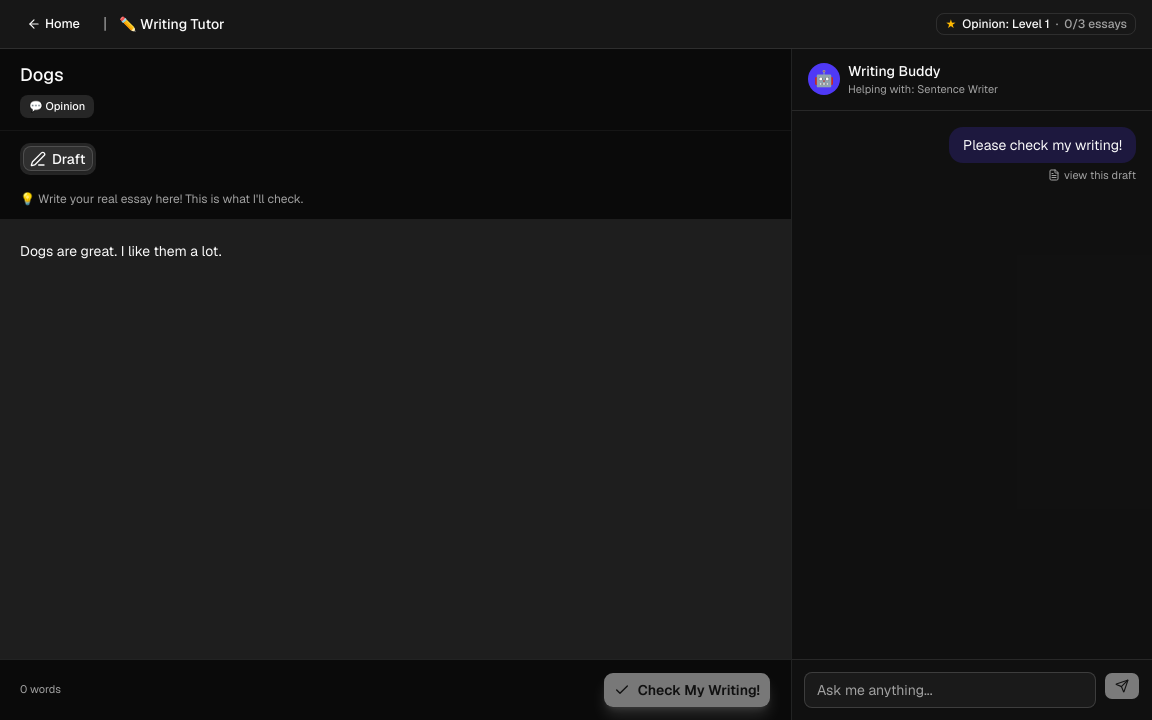
Scenario: WritingScreen — history mode › clicking a snapshot link enters history mode: diff view shown, editor hidden, banner visible
Click the button "view this draft" at (1092, 175), box [1048,166,1136,183]
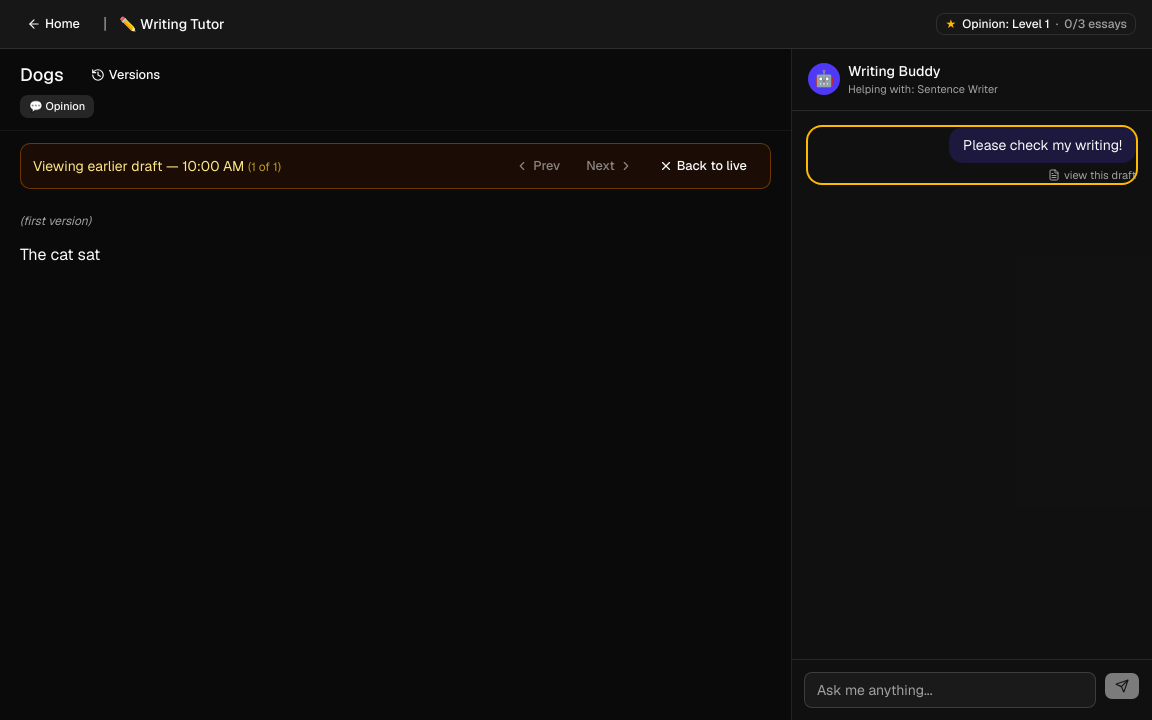
Expected: the text "Viewing earlier draft — 10:00 AM (1 of 1)" is shown, [33,156,281,176]
Expected: the button "Back to live" is shown, [648,152,758,180]
